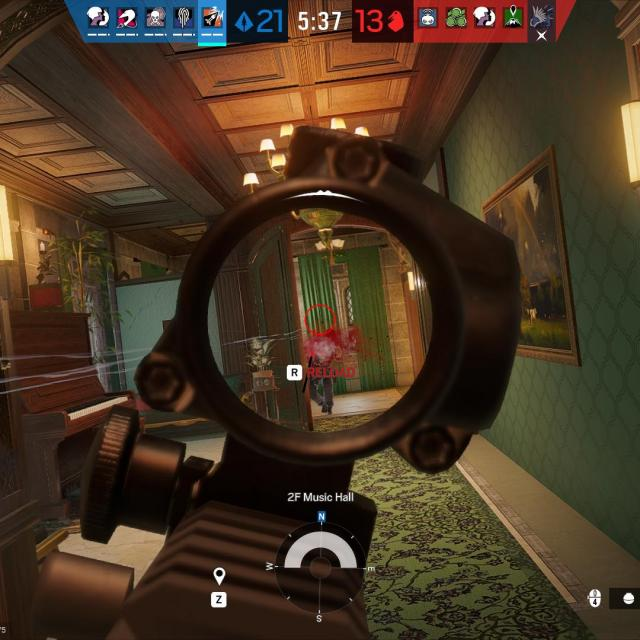Character: (306, 333, 356, 417)
